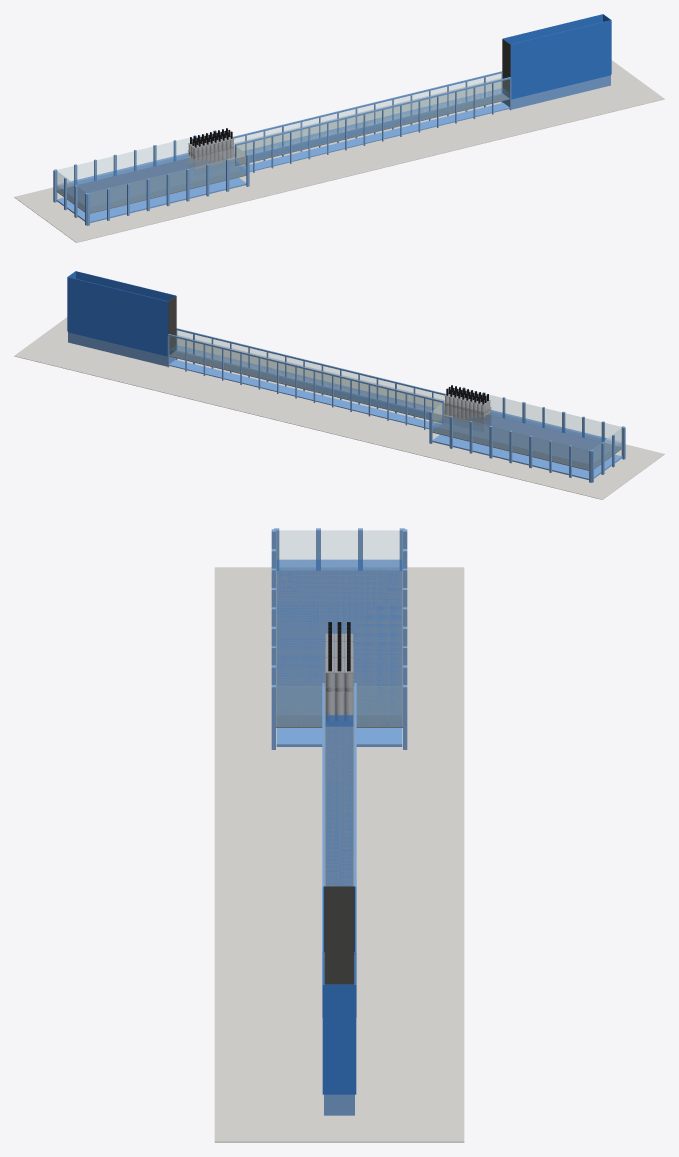
Rendered from tank_model.obj.
3 views of the same model, one above another, from view 1: azimuth 30°, elevation 25°; view 2: azimuth 150°, elevation 25°; view 3: azimuth 270°, elevation 25° (orthographic). The views are drawn at different scales.
Parts seen in each view (by area): view 1: lab_floor, reservoir_right_wall, channel_right_wall_(glass), water_in_the_head, head_floor, channel_left_wall_(glass), water_in_the_channel, head_right_wall_(glass), head_left_wall_(glass), channel_floor, channel_stand_(approx.), head_under-frame_(approx.) (+7 smaller); view 2: lab_floor, reservoir_left_wall, channel_left_wall_(glass), water_in_the_head, head_floor, water_in_the_channel, channel_right_wall_(glass), head_left_wall_(glass), head_right_wall_(glass), channel_floor, channel_stand_(approx.), head_under-frame_(approx.) (+7 smaller); view 3: lab_floor, water_in_the_head, head_floor, channel_floor, head_back_wall_(glass), water_in_the_channel, reservoir_far_wall, reservoir_gate_(closed:_a_reflecting_wall), head_front_wall_left_of_the_mouth_(glass), head_front_wall_right_of_the_mouth_(glass), head_under-frame_(approx.).
Boxes of the visible parts, <box> form: lab_floor: <box>14,60,664,242</box>; reservoir_right_wall: <box>510,20,610,98</box>; channel_right_wall_(glass): <box>237,80,509,161</box>; water_in_the_head: <box>57,153,245,212</box>; head_floor: <box>56,158,246,213</box>; channel_left_wall_(glass): <box>234,73,502,150</box>; water_in_the_channel: <box>234,88,509,161</box>; head_right_wall_(glass): <box>89,155,245,212</box>; head_left_wall_(glass): <box>56,132,213,184</box>; channel_floor: <box>229,93,509,165</box>; channel_stand_(approx.): <box>238,103,509,172</box>; head_under-frame_(approx.): <box>56,177,246,222</box>; lab_floor: <box>14,317,664,499</box>; reservoir_left_wall: <box>68,277,168,355</box>; channel_left_wall_(glass): <box>169,337,441,418</box>; water_in_the_head: <box>433,410,621,469</box>; head_floor: <box>432,415,622,470</box>; water_in_the_channel: <box>169,345,444,418</box>; channel_right_wall_(glass): <box>176,330,444,407</box>; head_left_wall_(glass): <box>433,412,589,469</box>; head_right_wall_(glass): <box>465,389,621,441</box>; channel_floor: <box>169,350,449,422</box>; channel_stand_(approx.): <box>169,360,440,429</box>; head_under-frame_(approx.): <box>432,434,622,479</box>; lab_floor: <box>214,567,464,1142</box>; water_in_the_head: <box>276,559,402,726</box>; head_floor: <box>276,570,402,727</box>; channel_floor: <box>324,726,354,886</box>; head_back_wall_(glass): <box>276,530,402,570</box>; water_in_the_channel: <box>325,715,353,886</box>; reservoir_far_wall: <box>322,984,356,1093</box>; reservoir_gate_(closed:_a_reflecting_wall): <box>324,886,354,984</box>; head_front_wall_left_of_the_mouth_(glass): <box>353,686,401,726</box>; head_front_wall_right_of_the_mouth_(glass): <box>277,686,325,726</box>; head_under-frame_(approx.): <box>276,728,402,746</box>.
Bounding box in the file's own units: 32.91 × 3.52 × 6.04.
